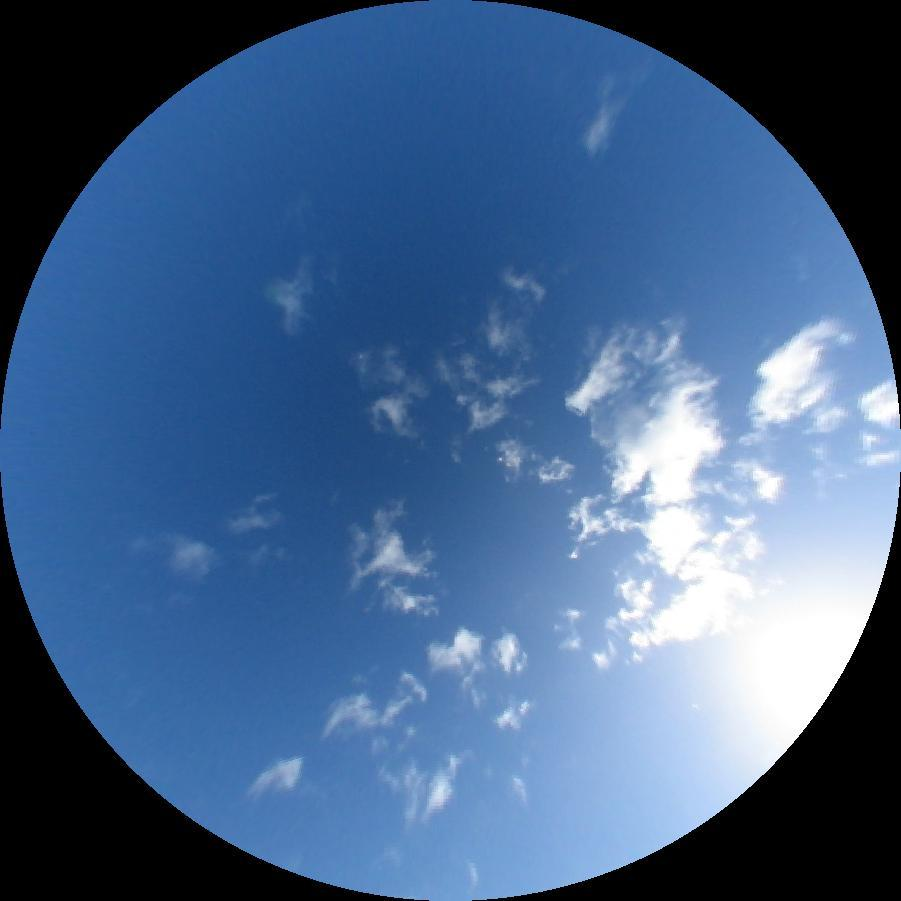sun: (705, 568, 872, 754)
